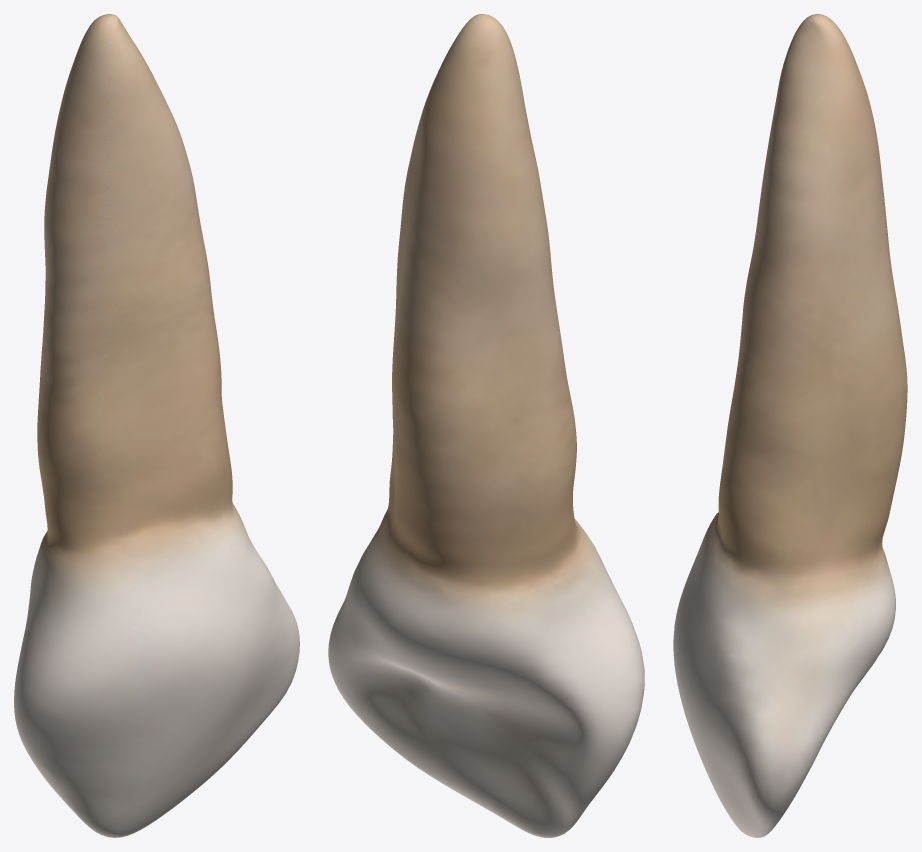
3 views of the same model, side by side, from view 1: azimuth 30°, elevation 25°; view 2: azimuth 150°, elevation 25°; view 3: azimuth 270°, elevation 25° (orthographic). The views are drawn at different scales.
Visible parts, largest first — view 1: diente-53; view 2: diente-53; view 3: diente-53.
Boxes of the visible parts, <box> form: diente-53: <box>14,14,299,837</box>; diente-53: <box>328,14,644,837</box>; diente-53: <box>673,14,907,837</box>.
Bounding box in the file's own units: 0.00703 × 0.019 × 0.00491.
1 material, 1 textured.
